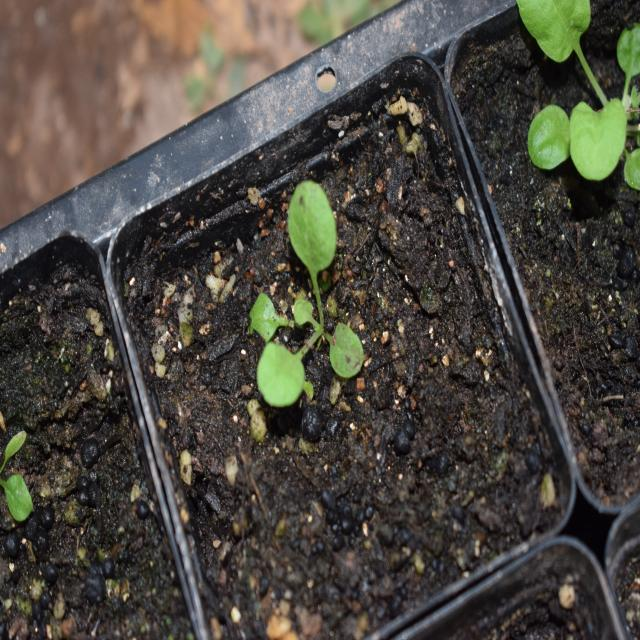Shepherd_Purse: (245, 170, 388, 418), (500, 0, 639, 184)
